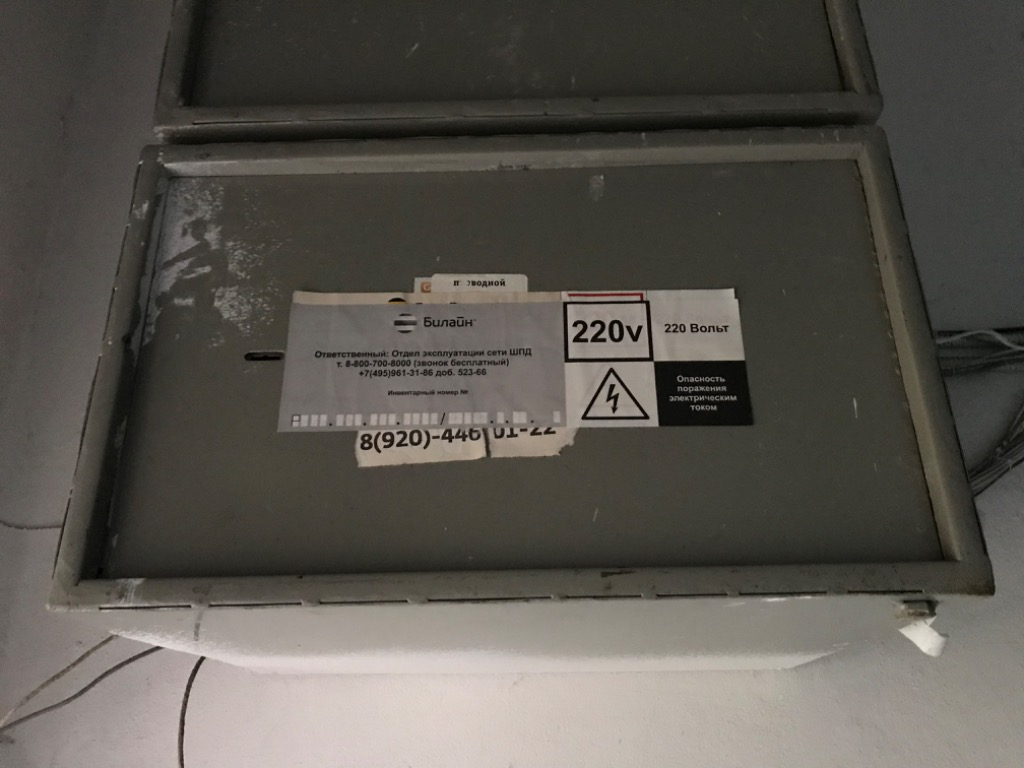e2-6u: (31, 121, 998, 680)
